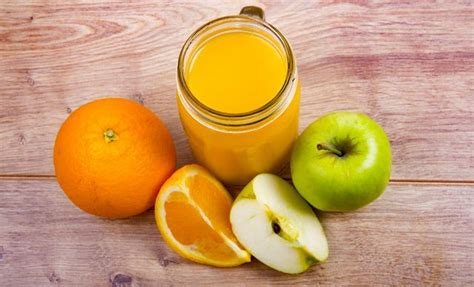apple: (288, 109, 394, 215)
orange: (49, 94, 176, 218)
